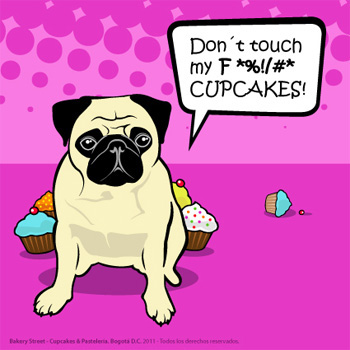dog: (29, 94, 198, 332)
